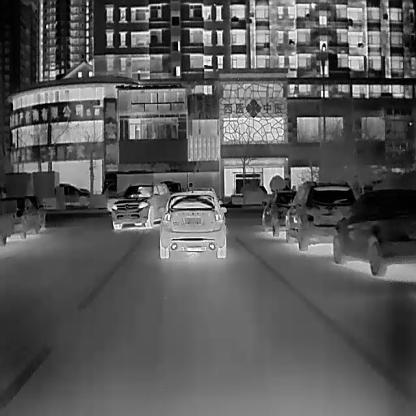car: (332, 187, 416, 275), (284, 179, 357, 250), (159, 184, 226, 258), (110, 182, 168, 228), (261, 188, 297, 235), (0, 195, 38, 237), (57, 182, 90, 206)
